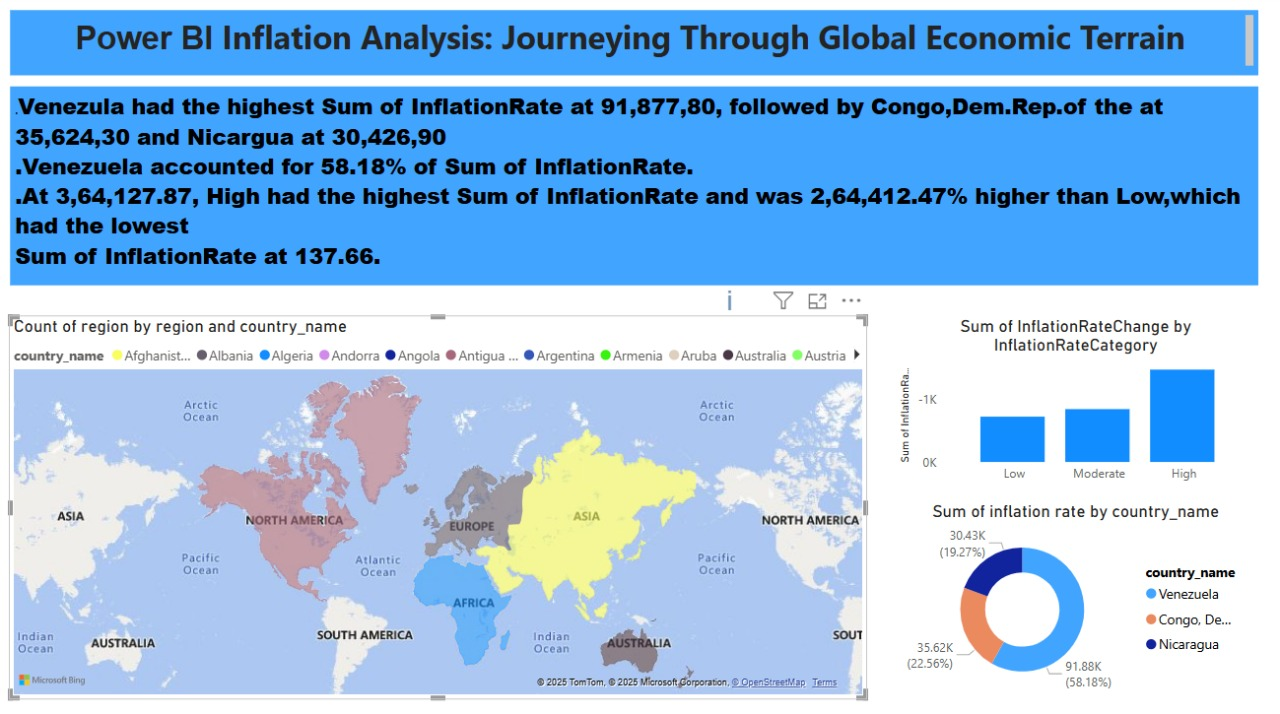

The dashboard page shown, as its layout file describes it:
{"tool":"powerbi","page":{"name":"Page 2","canvas":[1280,720],"ordinal":1},"visuals":[{"type":"filledMap","fields":{"Category":["continents2.region"],"Series":["global_inflation_data.country_name"],"Y":["Count(continents2.region)"]},"box":[15.4,290.1,853.3,409.6],"z":0},{"type":"donutChart","fields":{"Y":["Sum(global_inflation_data.inflation rate)"],"Category":["global_inflation_data.country_name"]},"box":[894.3,503.5,360.1,196.3],"z":1000},{"type":"columnChart","fields":{"Y":["Sum(global_inflation_data.InflationRateChange)"],"Category":["global_inflation_data.InflationRateCategory"]},"box":[894.3,319.1,360.1,175.8],"z":2000},{"type":"textbox","box":[15.4,92.2,1239,198],"z":3000},{"type":"textbox","box":[15.4,15.4,1239,64.9],"z":4000}]}

Visuals, with their boxes in screenshot pixels (x1, y1, x2, y2), scaled from the page's 1280x720 canvas onto the 1280x714 screenshot:
filledMap - continents2.region x global_inflation_data.country_name: 15 288 869 694
donutChart - Sum(global_inflation_data.inflation rate) x global_inflation_data.country_name: 894 499 1254 694
columnChart - Sum(global_inflation_data.InflationRateChange) x global_inflation_data.InflationRateCategory: 894 316 1254 491
textbox: 15 91 1254 288
textbox: 15 15 1254 80
